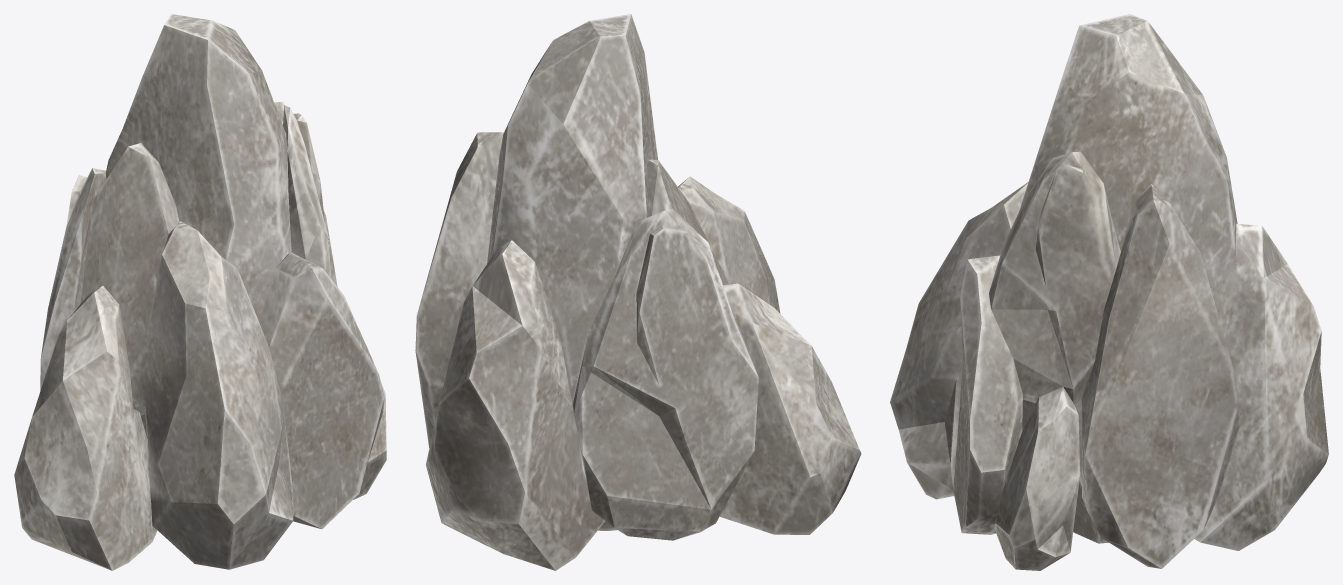
Rendered from tall_rockgroup_9_dream.glb.
The picture shows the model from 3 angles, left to right: view 1: azimuth 30°, elevation 25°; view 2: azimuth 150°, elevation 25°; view 3: azimuth 270°, elevation 25°; orthographic projection. The views are drawn at different scales.
Parts seen in each view (by area): view 1: tall_rockgroup_9; view 2: tall_rockgroup_9; view 3: tall_rockgroup_9.
Part boxes in pixels (bbox=[...]): tall_rockgroup_9: bbox=[14, 14, 386, 570]; tall_rockgroup_9: bbox=[415, 14, 861, 570]; tall_rockgroup_9: bbox=[890, 14, 1328, 570].
Bounding box in the file's own units: 46.62 × 59.89 × 48.92.
Materials: 1 (1 with a texture image).
